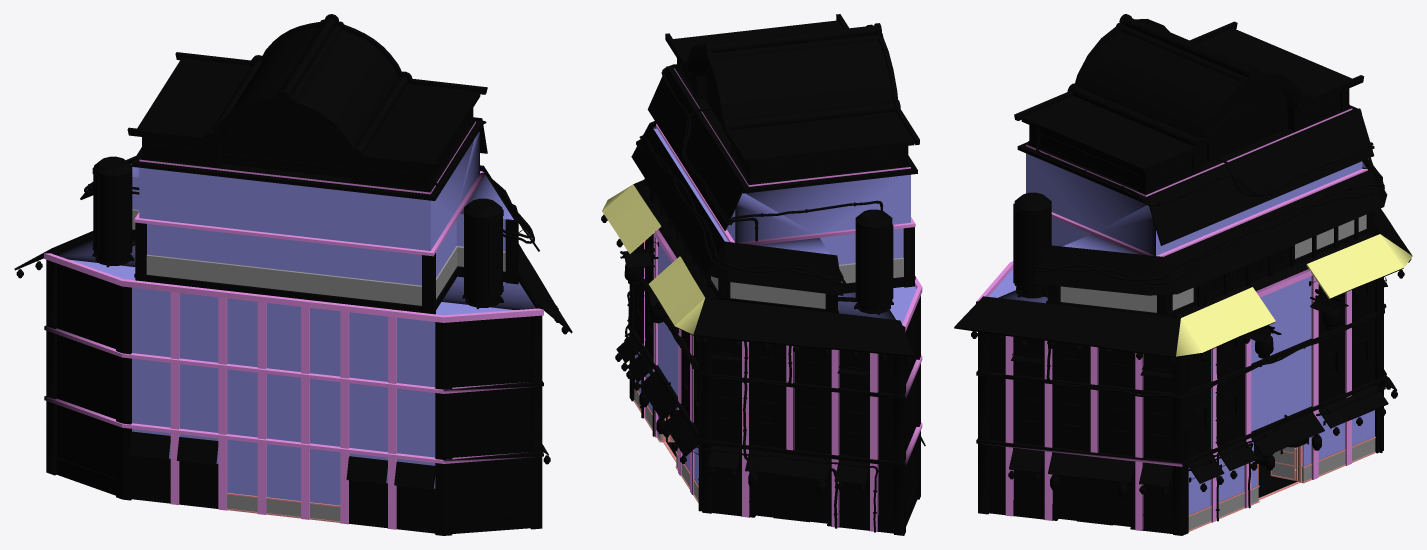
File: SM_ENV_LKNVLD_Shop_Structure_Lod1.gltf
3 views of the same model, side by side, from view 1: azimuth 30°, elevation 25°; view 2: azimuth 150°, elevation 25°; view 3: azimuth 270°, elevation 25° (orthographic). The views are drawn at different scales.
Visible parts, largest first — view 1: SM_ENV_LKNVLD_Shop_Structure_Lod1; view 2: SM_ENV_LKNVLD_Shop_Structure_Lod1; view 3: SM_ENV_LKNVLD_Shop_Structure_Lod1.
Boxes of the visible parts, <box> form: SM_ENV_LKNVLD_Shop_Structure_Lod1: <box>14,14,572,535</box>; SM_ENV_LKNVLD_Shop_Structure_Lod1: <box>601,14,925,535</box>; SM_ENV_LKNVLD_Shop_Structure_Lod1: <box>954,14,1412,535</box>.
Size of the model in its own units: 35.83 by 35.54 by 35.83.
